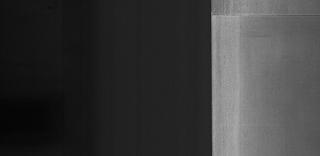welding line: (212, 13, 318, 19)
